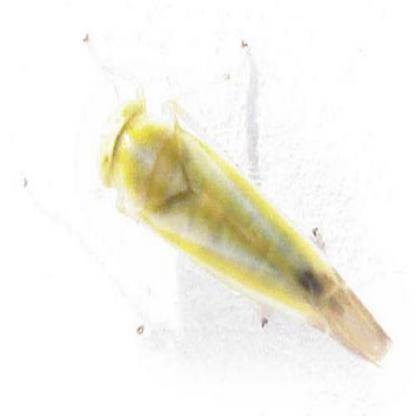green-leafhopper: (95, 96, 389, 364)
